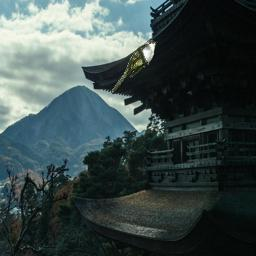Cuckoo: (111, 40, 159, 94)
